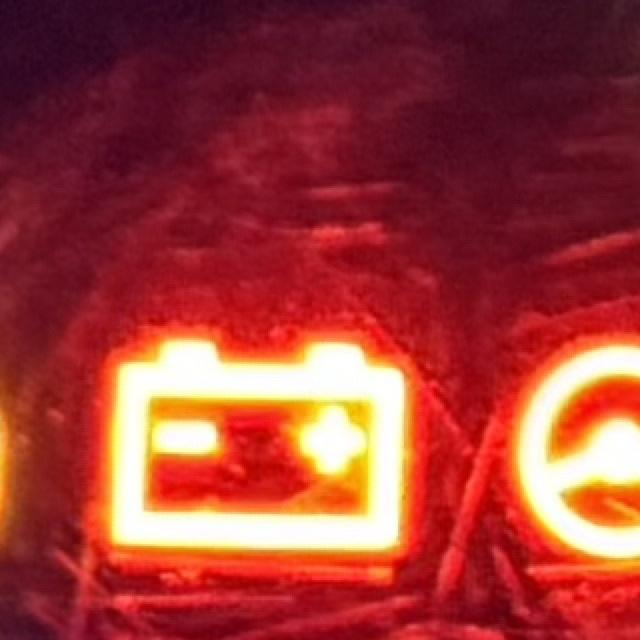Battery Issue: (104, 332, 413, 558)
